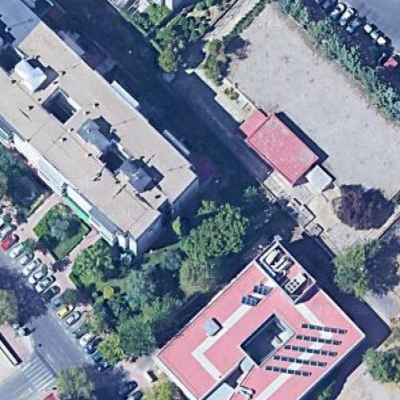tree: (192, 202, 257, 260), (329, 242, 378, 298), (2, 148, 40, 206), (114, 315, 159, 359), (122, 265, 165, 310), (54, 360, 100, 400), (178, 260, 222, 301), (361, 344, 400, 387), (152, 41, 189, 81), (158, 245, 191, 276), (139, 375, 175, 400), (202, 55, 227, 88), (45, 213, 73, 241)
